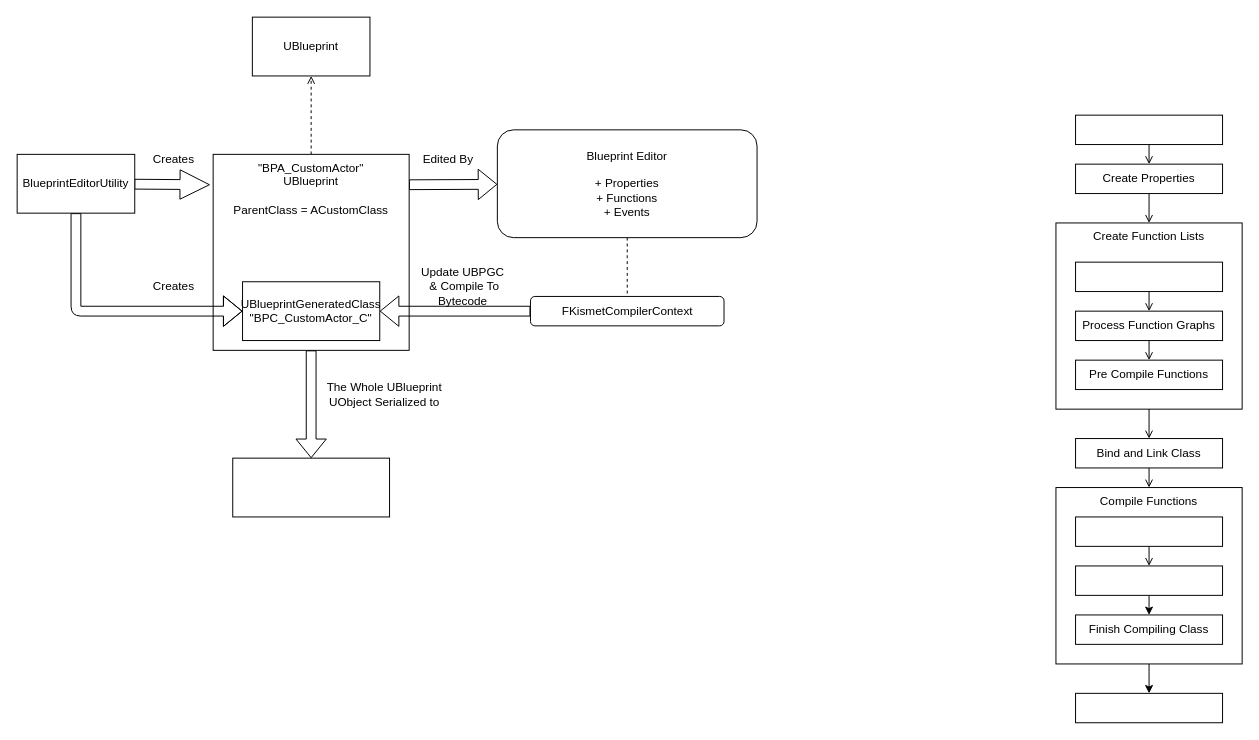
Image size: 1259x740. Some labels were removed from this diagram. Here are the shapes that lost their labels. From the top down, the centre of each, then its label:
[1149,129]: Clean Class
[1149,276]: Process Event Graphs
[311,487]: "BPA_CustomActor.uasset"
[1149,531]: Copy CDO Properties
[1149,580]: Backend Generate Bytecode
[1149,707]: Reinst Existing Instances
